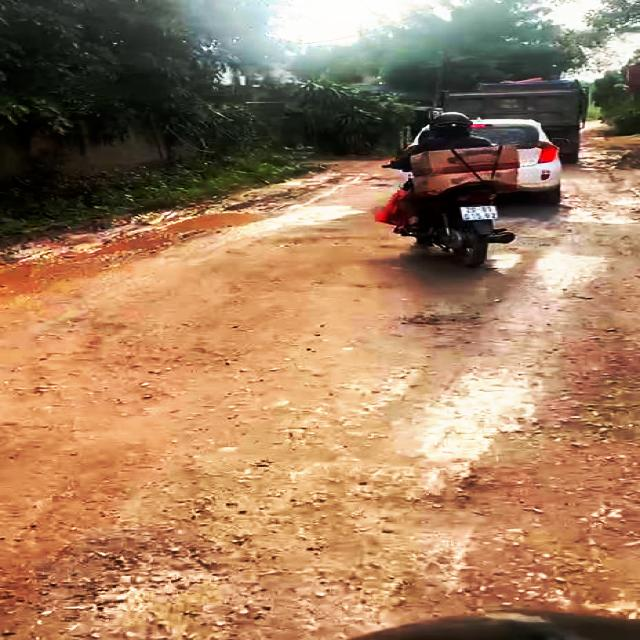pothole: (74, 208, 276, 263)
